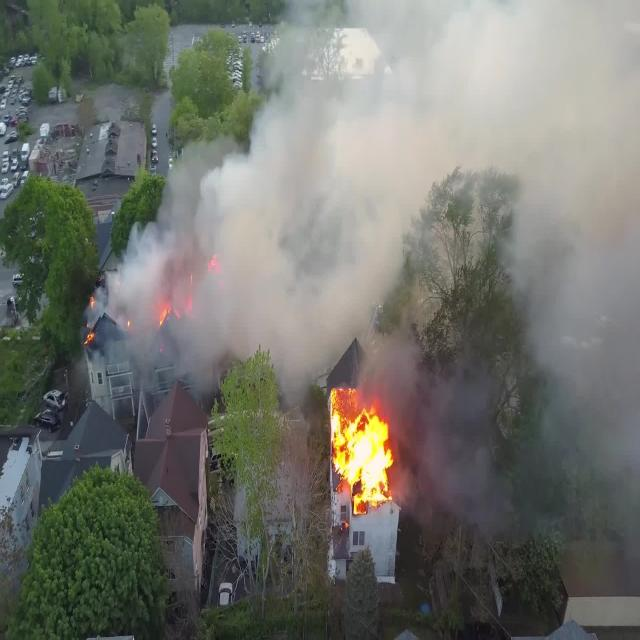fire: (332, 410, 389, 510)
smoke: (177, 147, 385, 353), (525, 147, 637, 464), (369, 9, 632, 142), (410, 393, 489, 530)
